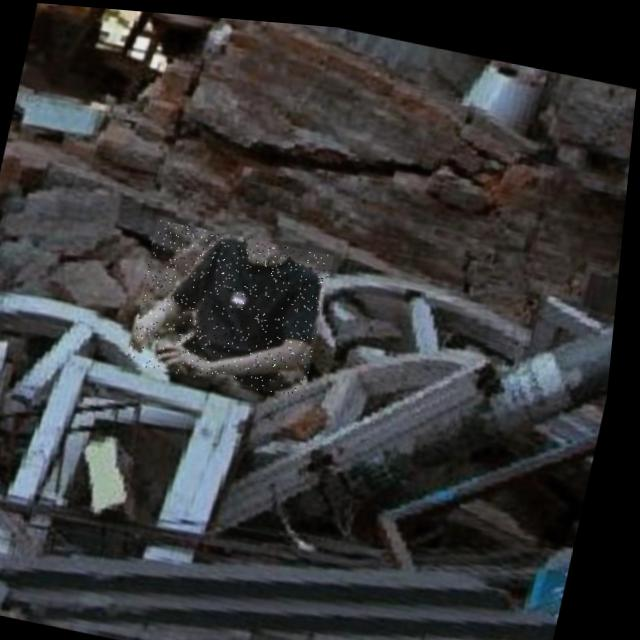Person in Rubble: (131, 215, 339, 395)
